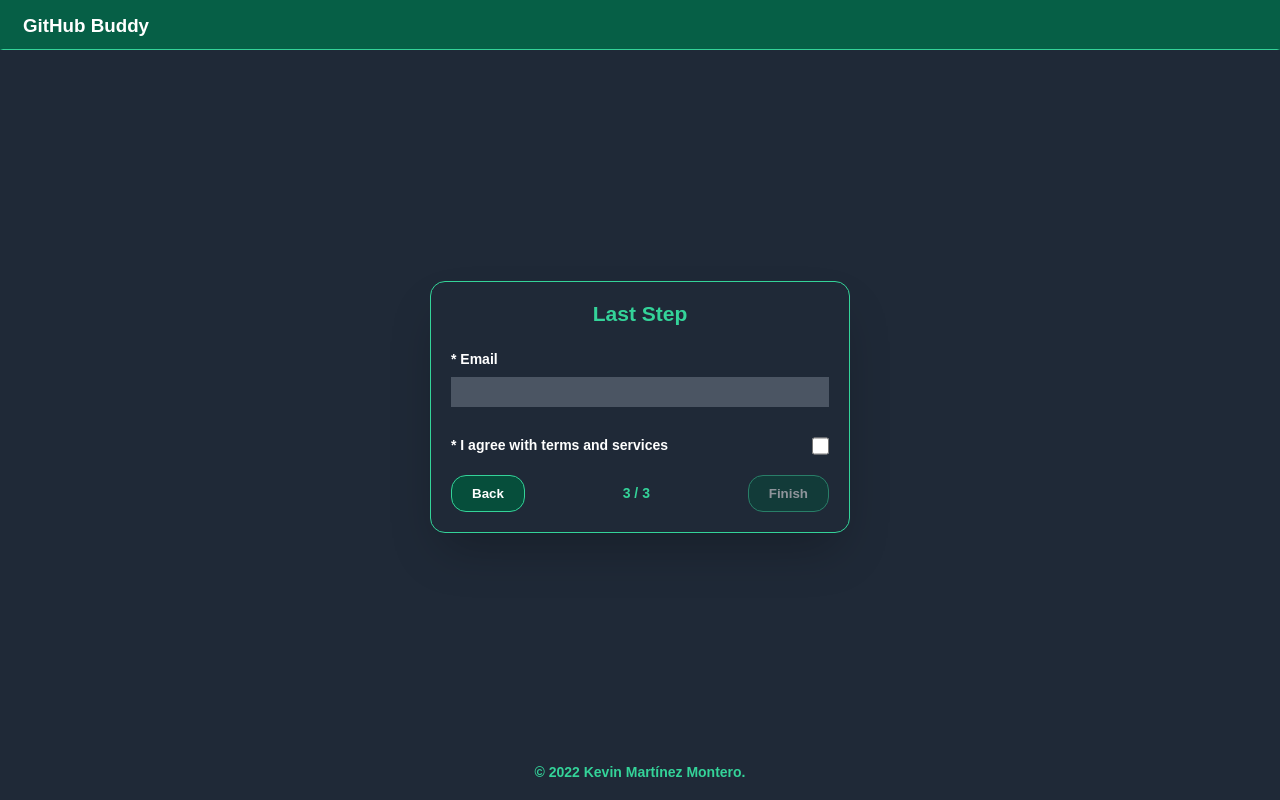
it: Form Two › should show error for required email
The image size is (1280, 800).
Focus the field labelled "* Email" at (640, 392), box [451,377,829,407]
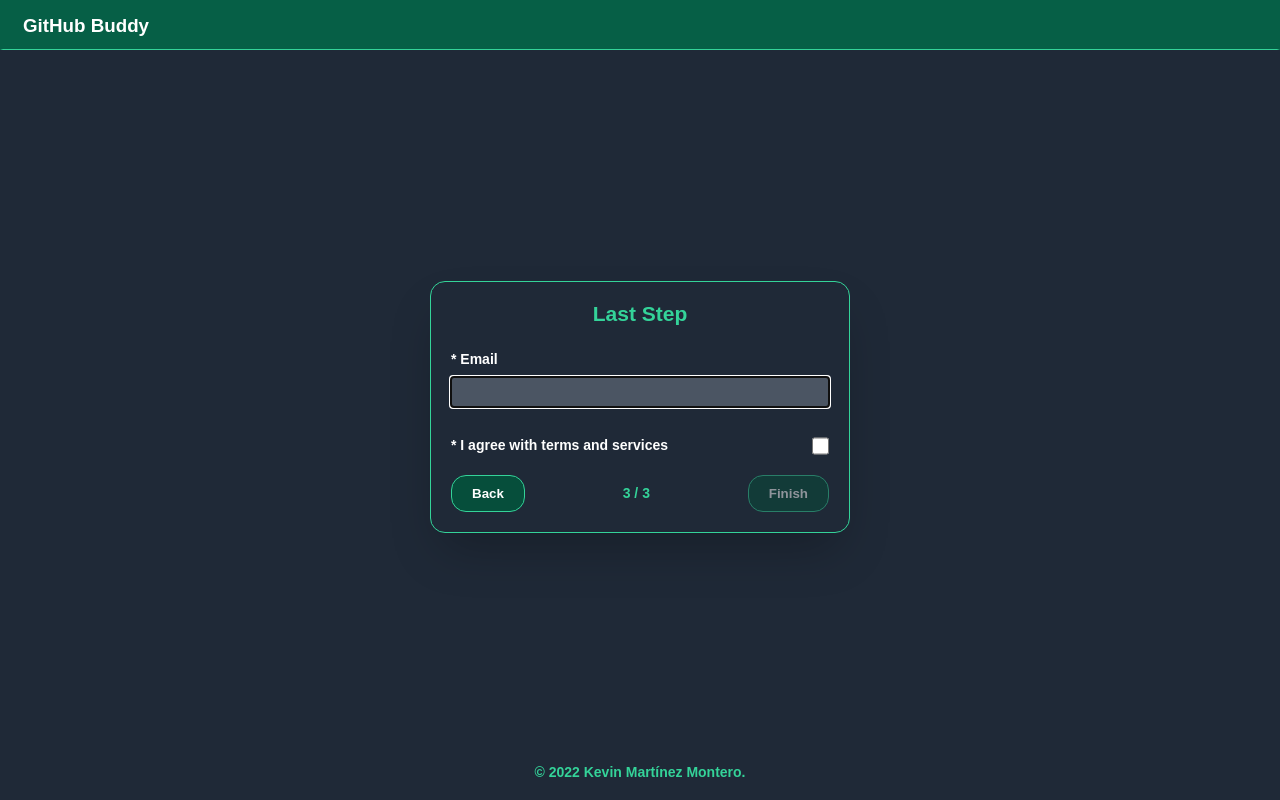
Focus the checkbox labelled "* I agree with terms and services" at (821, 446), box [812,437,830,455]
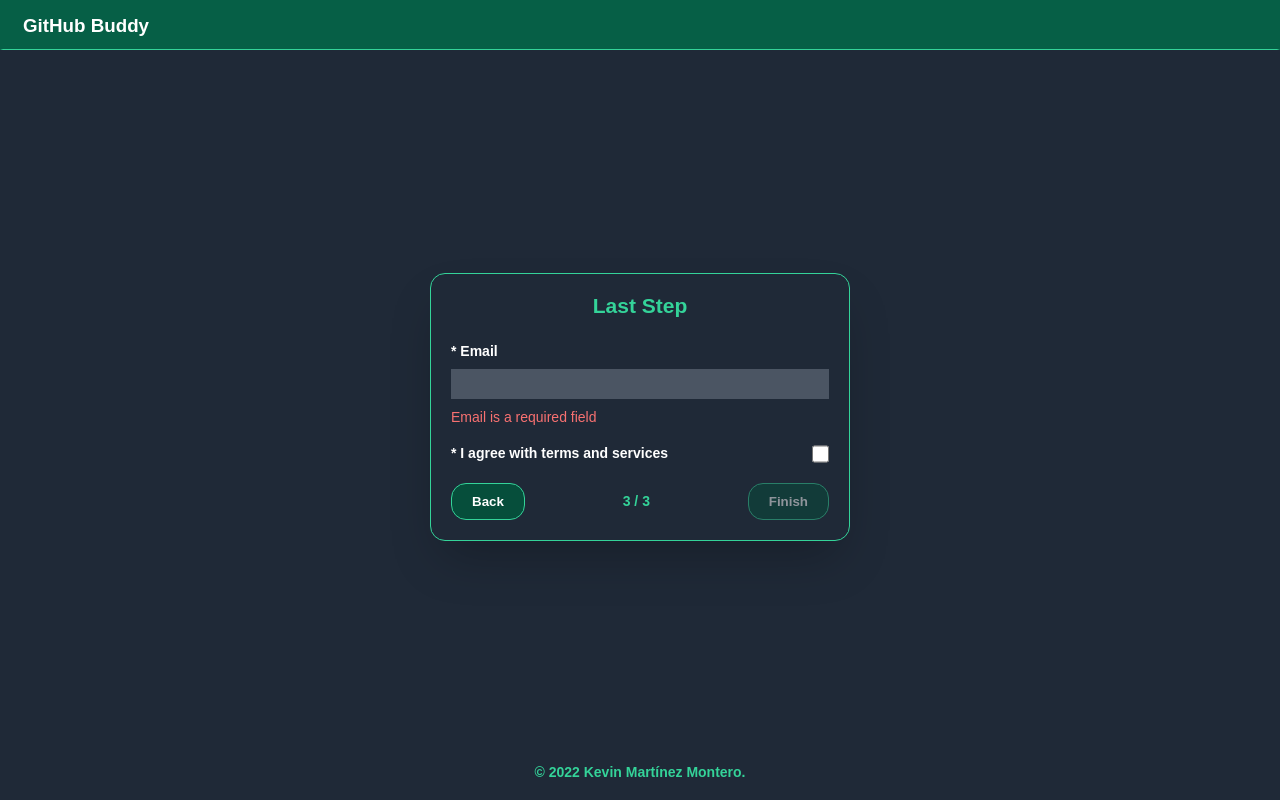
Result: the message "Email is a required field" is shown at [451,409,596,425]
